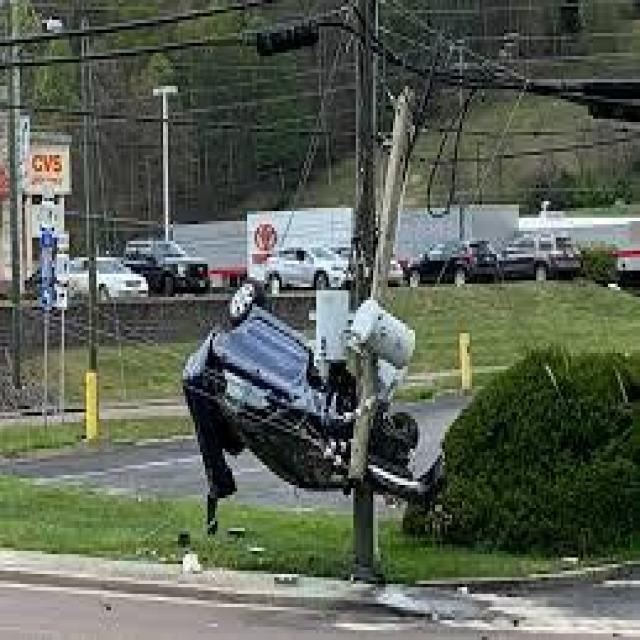severe: (180, 275, 418, 500)
